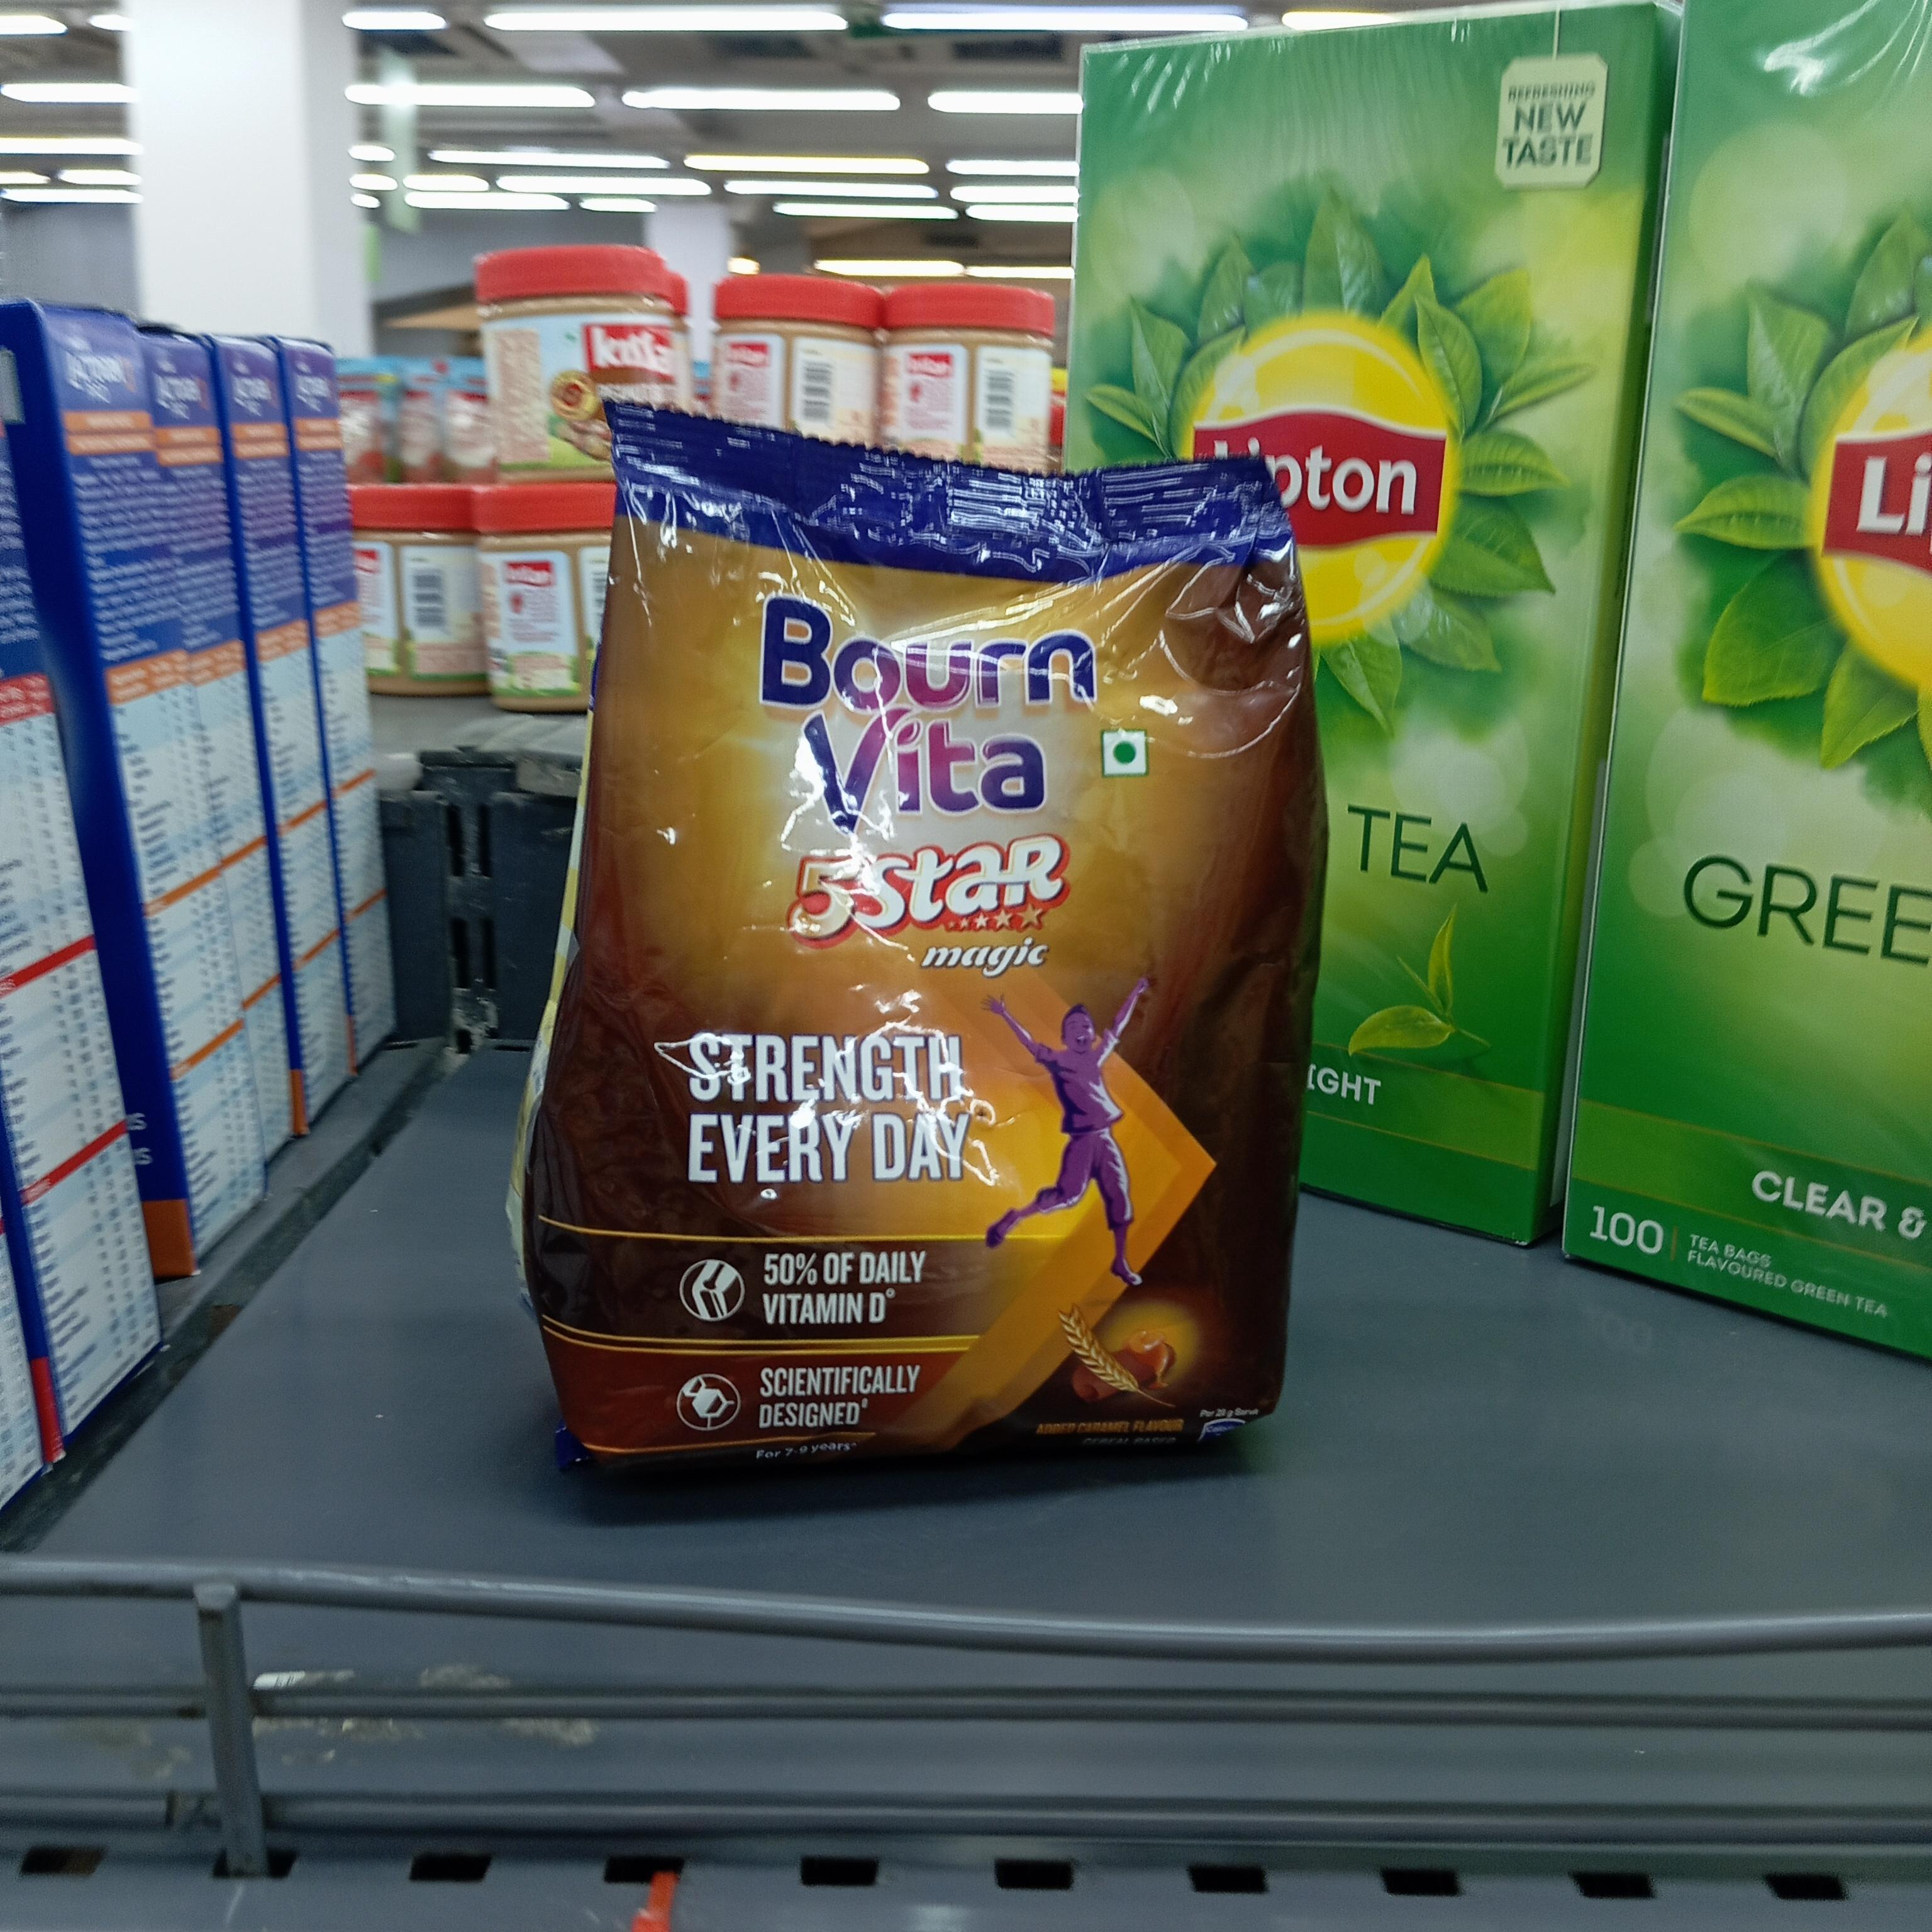BOURN_VITA_FIVE_STAR_MAGIC_500_G_POUCH: (586, 386, 1292, 1477)
